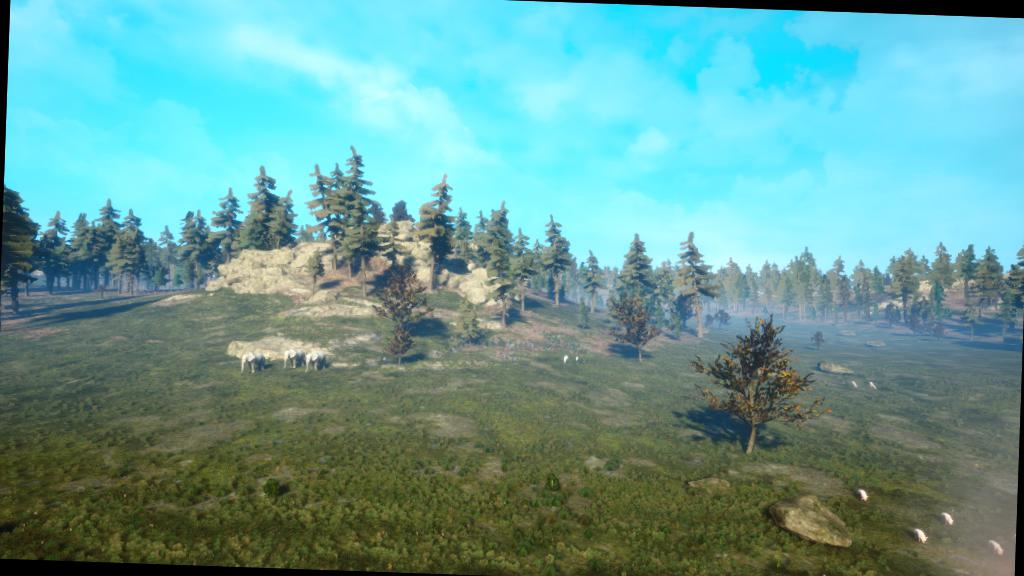elephant: (301, 346, 334, 372), (236, 350, 268, 376), (279, 345, 307, 370)
human: (812, 569, 836, 575)
pig: (984, 536, 1008, 558), (936, 509, 956, 528), (911, 526, 928, 546), (856, 488, 870, 502)
